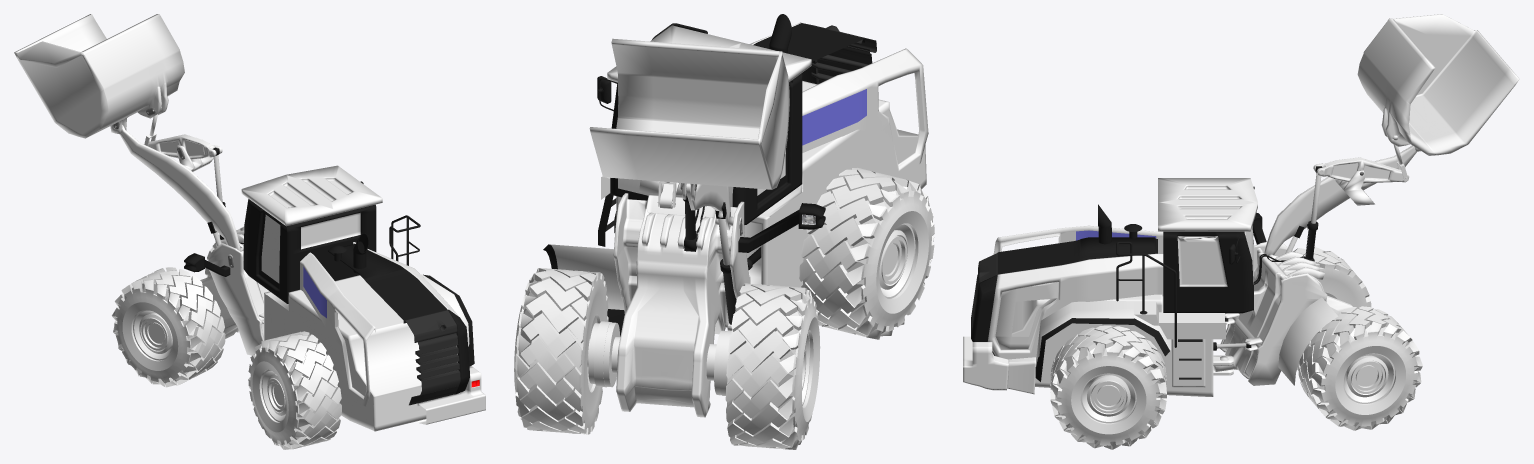
The model's file is cat.gltf.
3 renders of one model, left to right at view 1: azimuth 30°, elevation 25°; view 2: azimuth 150°, elevation 25°; view 3: azimuth 270°, elevation 25°, orthographic. The views are drawn at different scales.
Parts seen in each view (by area): view 1: Plane.016, Cube.002, Plane.012, Plane.013, Cube.007, Plane.017, Plane, Plane.009, Plane.010, Plane.003, Plane.006, Plane.022 (+8 smaller); view 2: Plane.012, Plane.016, Plane.009, Plane.013, Cube.002, Plane, Cube.007, Plane.014, Circle, Plane.015, Plane.017, Plane.003 (+6 smaller); view 3: Plane.016, Plane.012, Plane.013, Plane, Plane.009, Cube.007, Plane.017, Cube.002, Plane.010, Plane.003, Plane.001, Plane.015 (+11 smaller).
Boxes of the visible parts, x1=… form: Plane.016: x1=14, y1=14, x2=184, y2=138; Cube.002: x1=264, y1=275, x2=461, y2=431; Plane.012: x1=112, y1=226, x2=244, y2=387; Plane.013: x1=248, y1=331, x2=341, y2=449; Cube.007: x1=243, y1=199, x2=376, y2=303; Plane.017: x1=241, y1=165, x2=382, y2=226; Plane: x1=300, y1=242, x2=458, y2=406; Plane.009: x1=200, y1=227, x2=269, y2=355; Plane.010: x1=120, y1=125, x2=240, y2=250; Plane.003: x1=327, y1=244, x2=447, y2=323; Plane.006: x1=415, y1=333, x2=460, y2=395; Plane.022: x1=416, y1=366, x2=485, y2=424; Plane.012: x1=514, y1=268, x2=820, y2=449; Plane.016: x1=589, y1=38, x2=789, y2=200; Plane.009: x1=613, y1=193, x2=750, y2=417; Plane.013: x1=799, y1=168, x2=934, y2=339; Cube.002: x1=744, y1=81, x2=926, y2=287; Plane: x1=749, y1=23, x2=928, y2=178; Cube.007: x1=610, y1=73, x2=802, y2=224; Plane.014: x1=587, y1=316, x2=810, y2=406; Circle: x1=543, y1=244, x2=624, y2=336; Plane.015: x1=879, y1=223, x2=915, y2=298; Plane.017: x1=607, y1=25, x2=811, y2=82; Plane.003: x1=753, y1=23, x2=864, y2=61; Plane.016: x1=1357, y1=14, x2=1519, y2=155; Plane.012: x1=1293, y1=247, x2=1422, y2=430; Plane.013: x1=1050, y1=325, x2=1166, y2=449; Plane: x1=987, y1=225, x2=1163, y2=359; Plane.009: x1=1213, y1=242, x2=1353, y2=385; Cube.007: x1=1163, y1=225, x2=1253, y2=313; Plane.017: x1=1158, y1=178, x2=1257, y2=231; Cube.002: x1=1011, y1=294, x2=1233, y2=396; Plane.010: x1=1264, y1=145, x2=1416, y2=255; Plane.003: x1=997, y1=237, x2=1157, y2=274; Plane.001: x1=1035, y1=300, x2=1133, y2=381; Plane.015: x1=1080, y1=373, x2=1136, y2=423.
Bounding box in the file's own units: 5.26 × 6.12 × 9.65.
